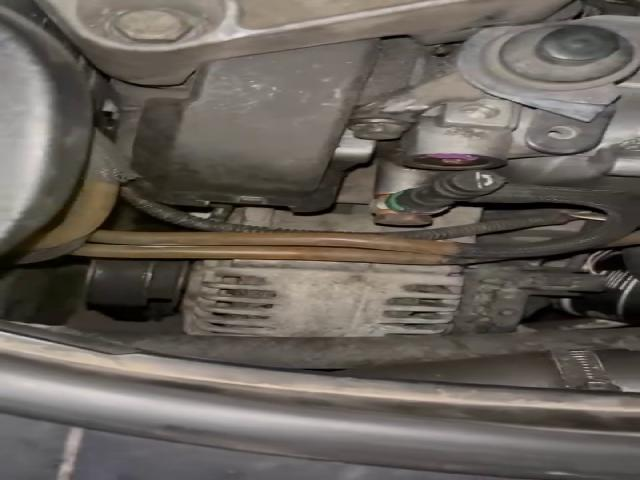alternator: (180, 259, 611, 339)
high_pressure_pump: (382, 42, 640, 187)
